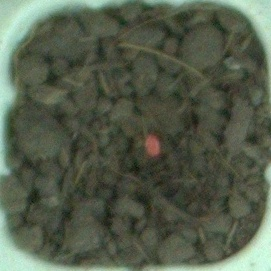pepper seed: (63, 54, 225, 211)
